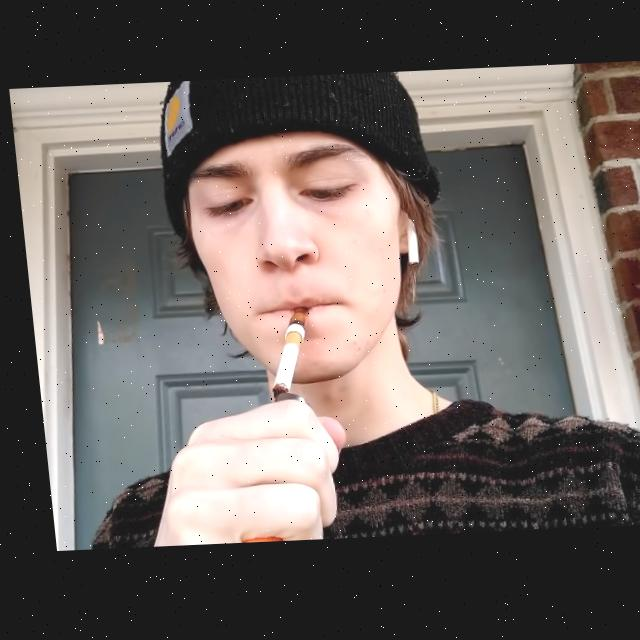cigarette: (258, 333, 299, 401)
